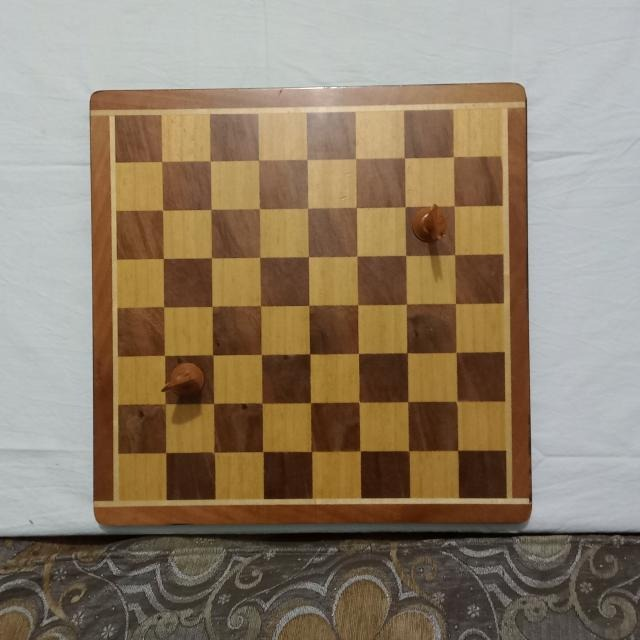white-knight: (157, 360, 207, 401), (412, 203, 448, 245)
